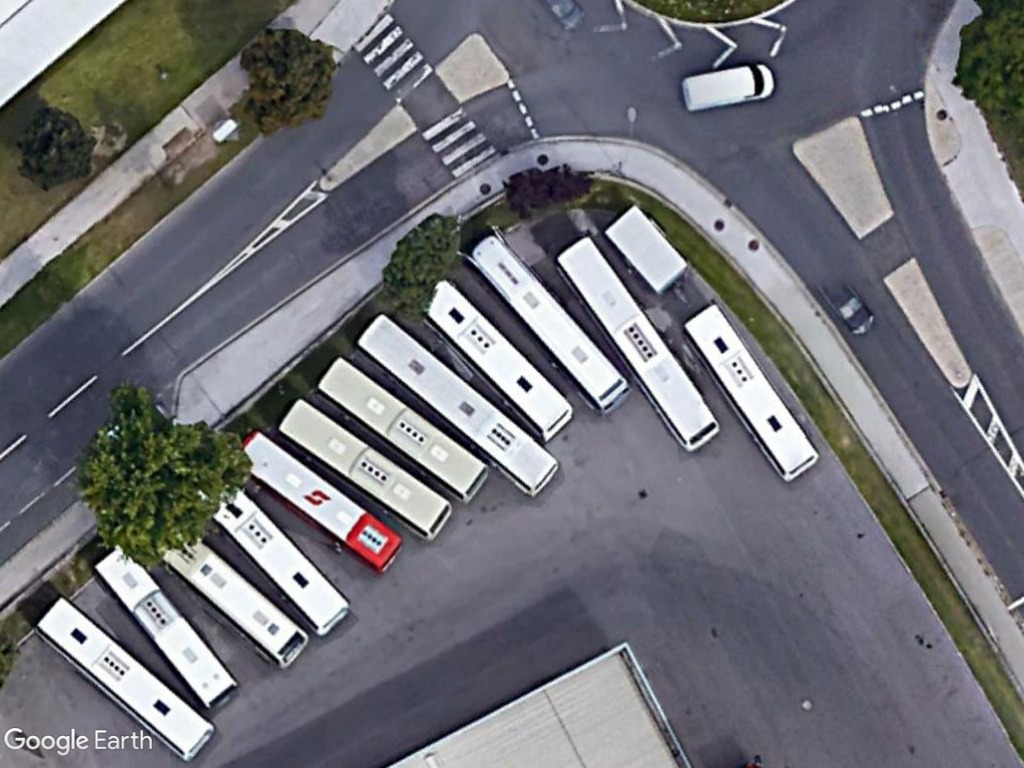bus: (354, 311, 567, 501), (550, 233, 723, 454), (459, 229, 633, 420), (27, 593, 217, 764), (276, 394, 456, 544), (416, 277, 577, 442), (679, 300, 823, 483), (320, 355, 495, 505), (91, 543, 241, 713), (229, 430, 406, 570), (206, 484, 349, 632), (163, 539, 308, 671)
van: (676, 60, 780, 119)
